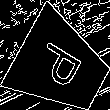P_SE: (32, 38, 90, 95)
